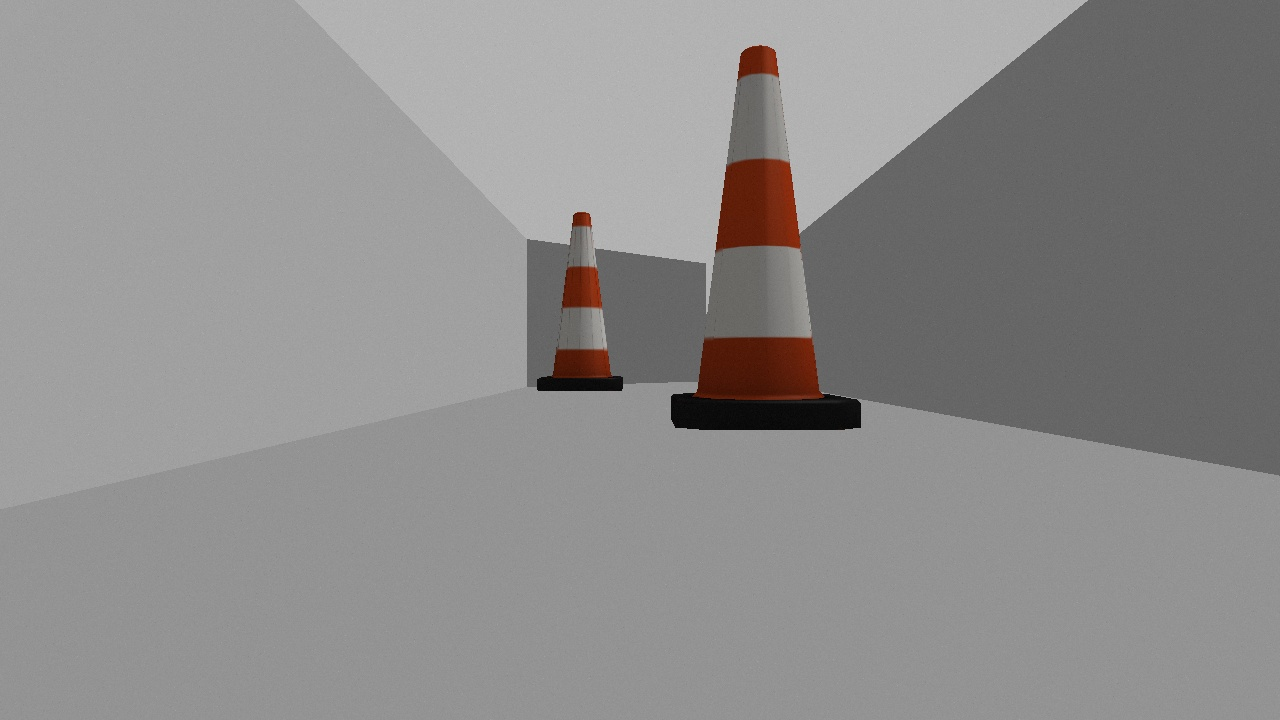barricade: (653, 45, 874, 439), (528, 209, 632, 396)
